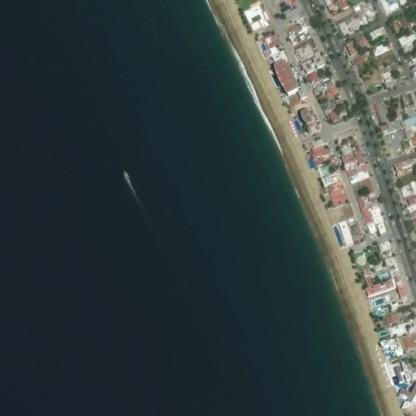ship: (114, 162, 136, 186)
